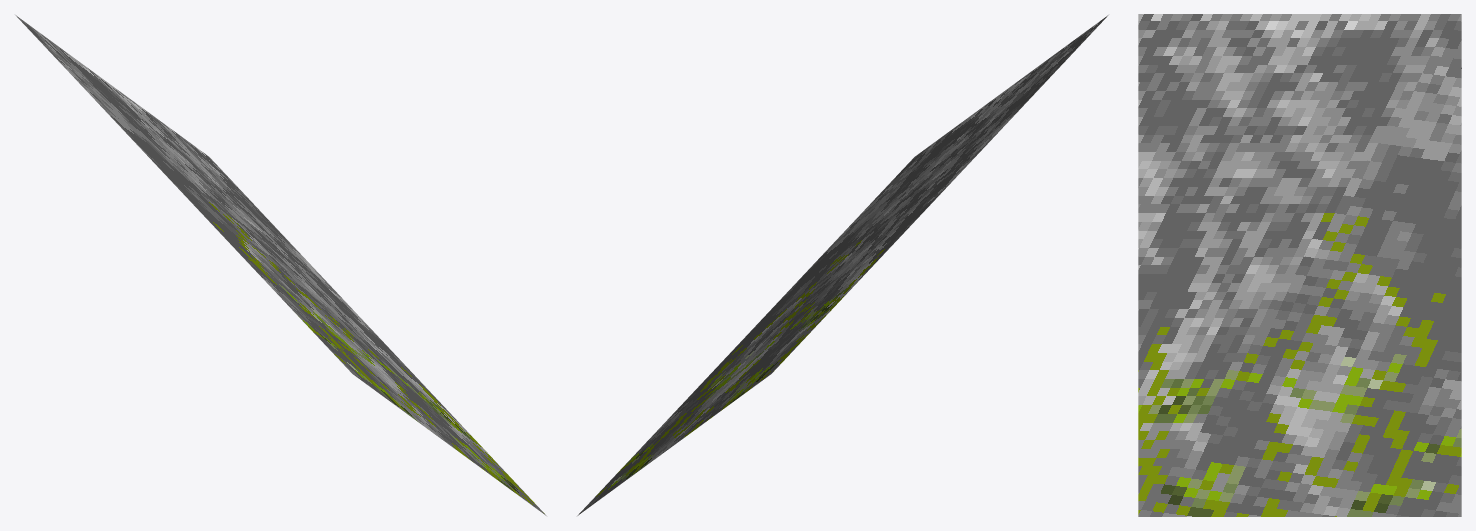
The model's file is mountainside2.glb.
The picture shows the model from 3 angles, left to right: view 1: azimuth 30°, elevation 25°; view 2: azimuth 150°, elevation 25°; view 3: azimuth 270°, elevation 25°; orthographic projection. The views are drawn at different scales.
Parts seen in each view (by area): view 1: Cube; view 2: Cube; view 3: Cube.
Boxes of the visible parts, x1=… form: Cube: x1=15, y1=15, x2=546, y2=515; Cube: x1=577, y1=15, x2=1108, y2=515; Cube: x1=1138, y1=14, x2=1461, y2=516.
Size of the model in its own units: 4 by 5 by 4.
Materials: 1 (1 with a texture image).
